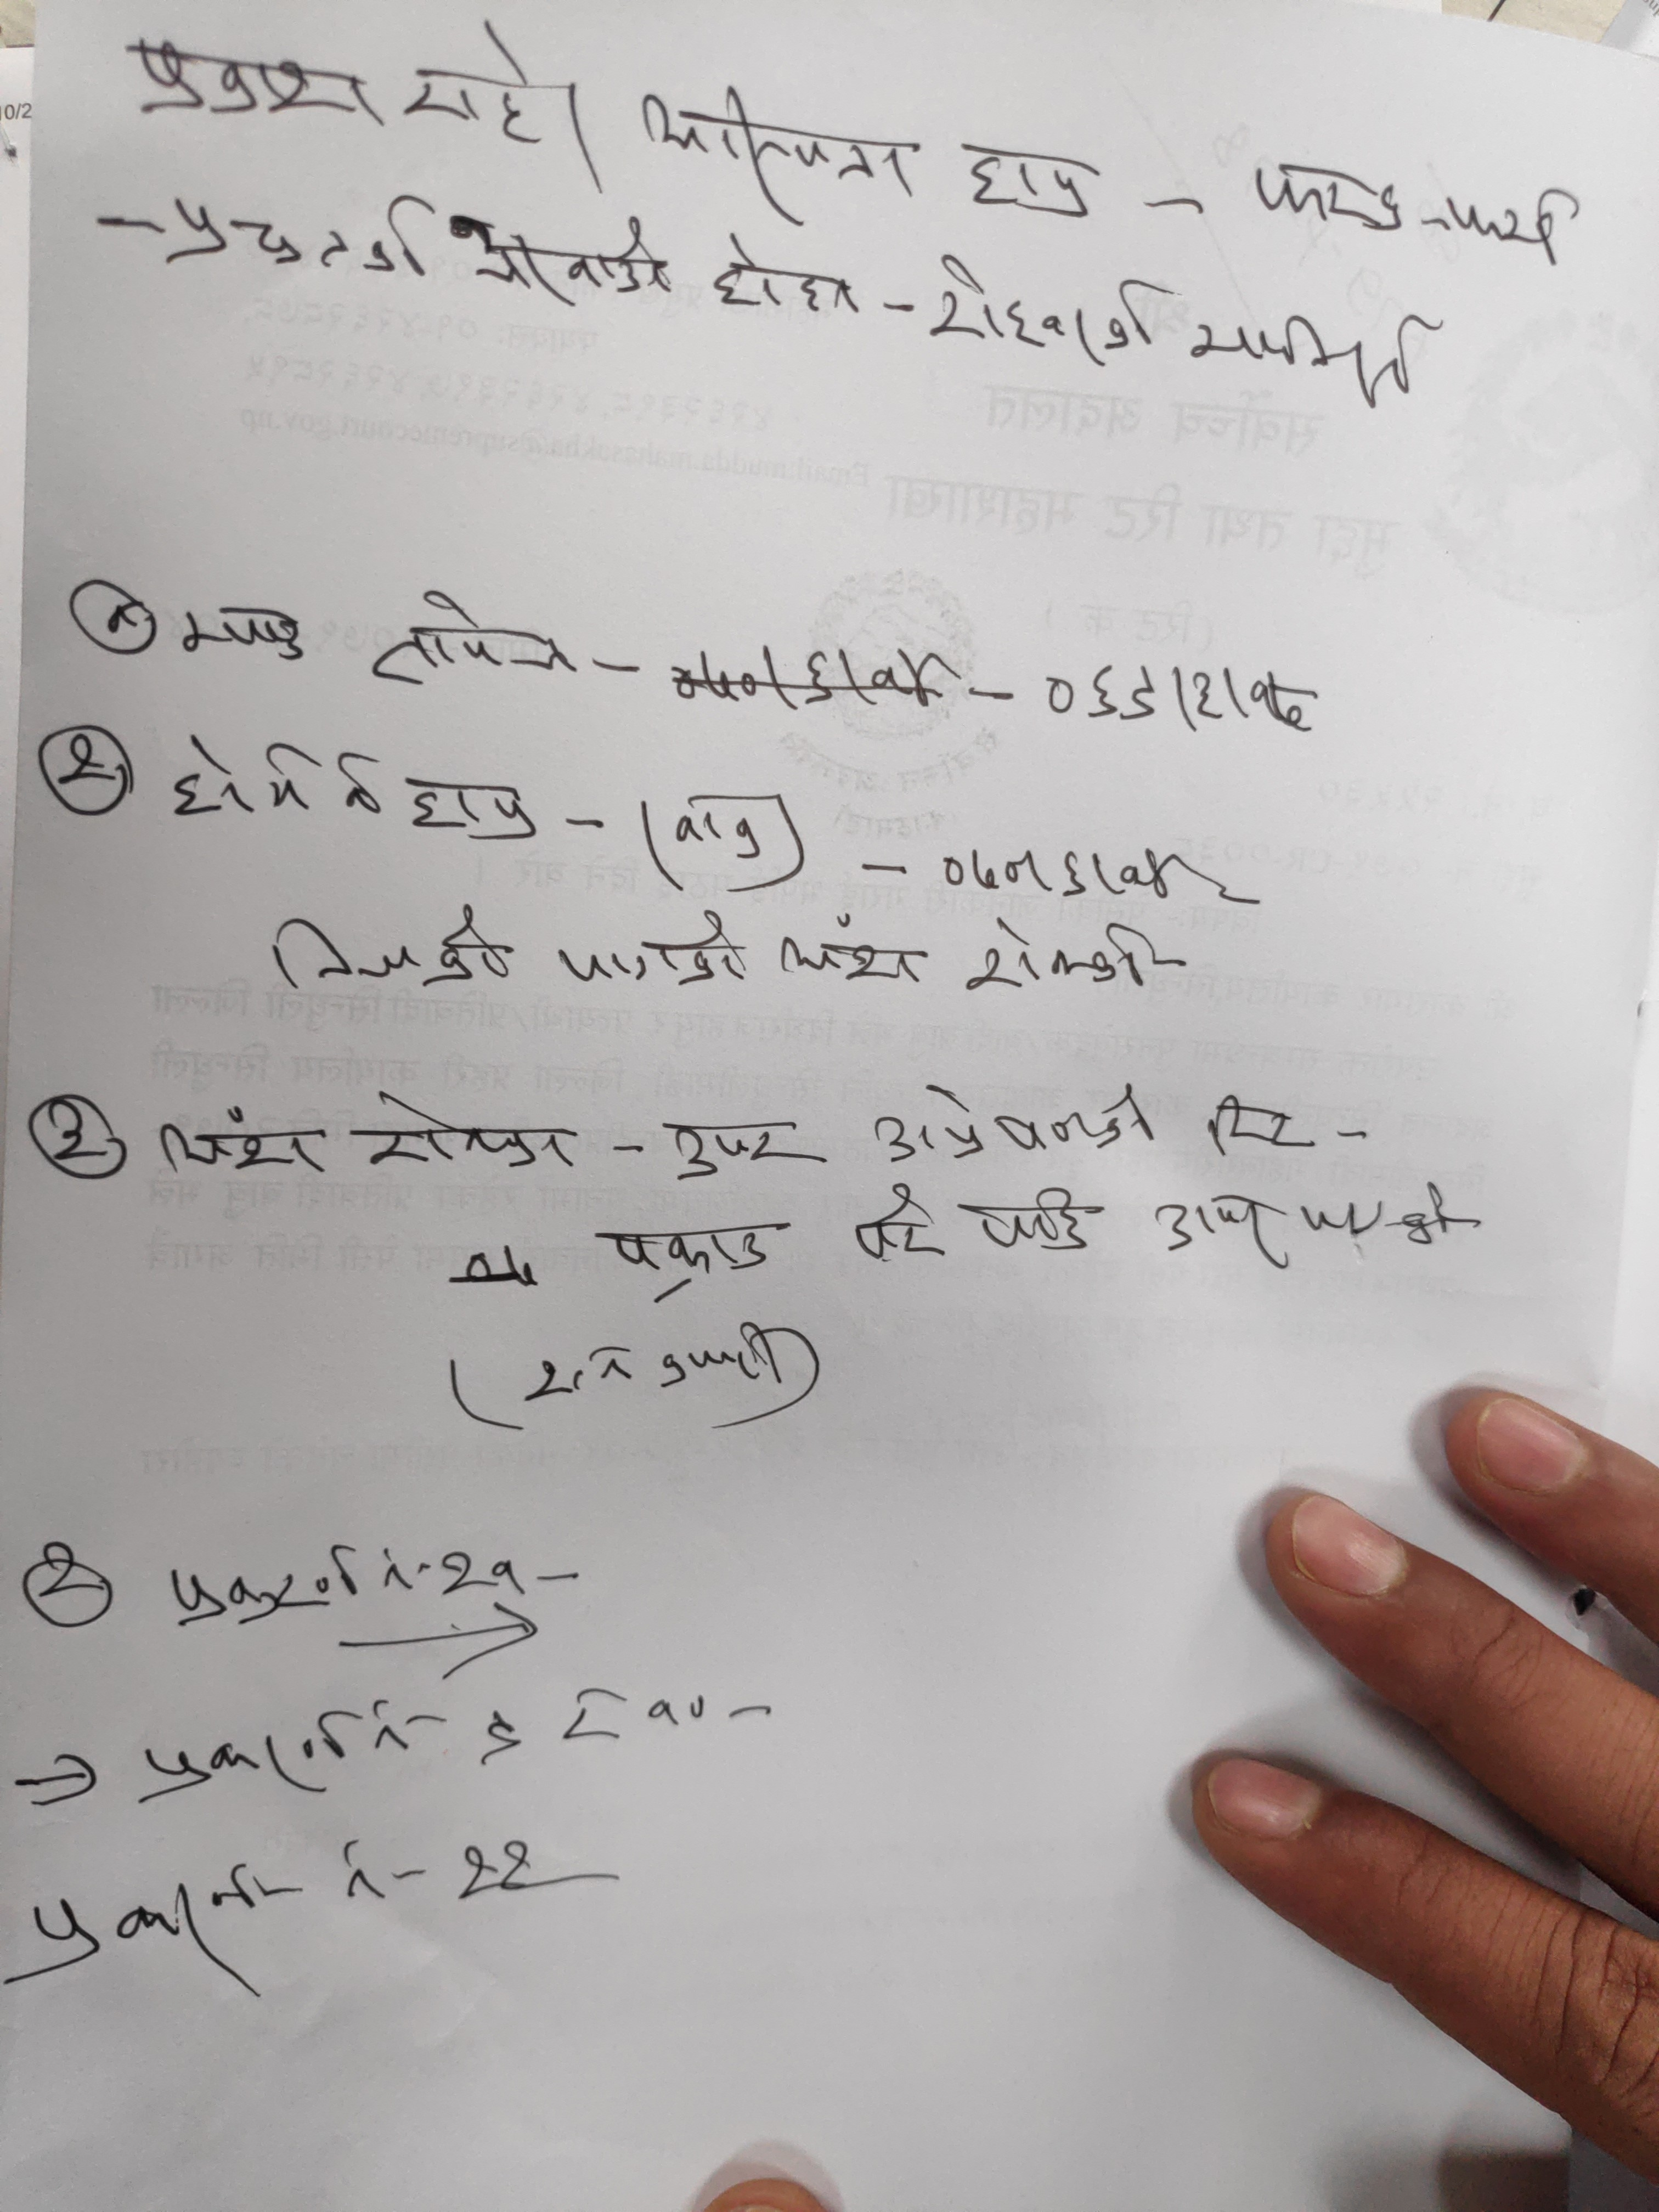text: (9, 1858, 308, 2003), (627, 80, 915, 225), (124, 1703, 441, 1817), (392, 16, 608, 174), (164, 1534, 521, 1625), (1183, 303, 1445, 418), (861, 1073, 1171, 1167), (127, 24, 389, 131), (931, 251, 1168, 364), (166, 193, 434, 293), (260, 899, 521, 1000), (931, 834, 1251, 913), (357, 585, 577, 698), (347, 1083, 582, 1183), (164, 725, 385, 829), (1044, 657, 1317, 738), (457, 212, 687, 305), (951, 913, 1190, 1001), (586, 1212, 789, 1296), (699, 225, 873, 322), (554, 913, 755, 996), (1248, 153, 1412, 254), (160, 1096, 324, 1186), (767, 909, 934, 996), (957, 127, 1096, 228), (1434, 183, 1582, 277), (971, 1181, 1105, 1268), (396, 766, 544, 845), (838, 1177, 951, 1273), (176, 599, 312, 671), (666, 1115, 809, 1183)
